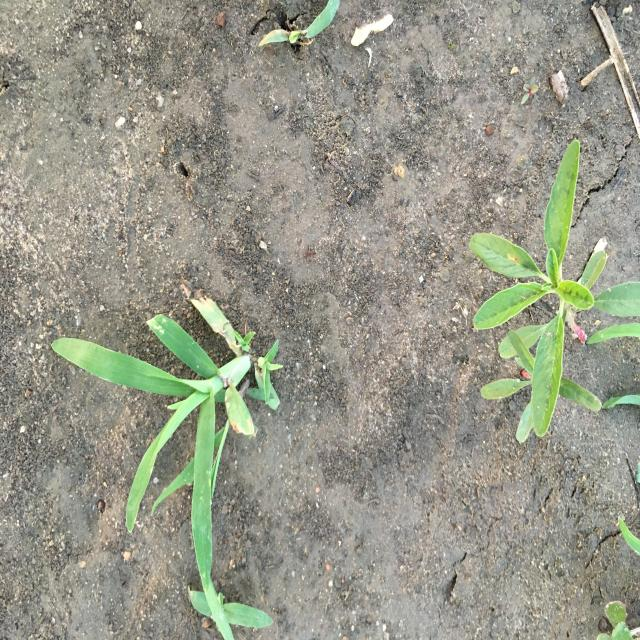Goosegrass: (50, 274, 285, 639)
Waterhemp: (467, 136, 609, 444)
